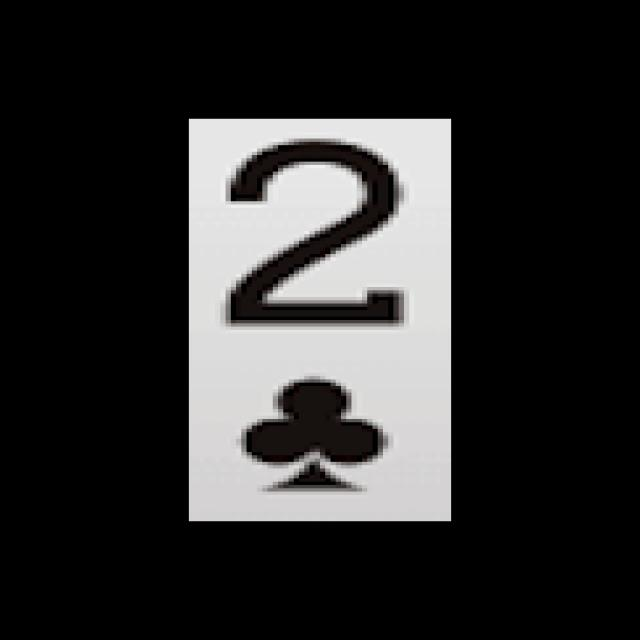2C: (212, 124, 422, 507)
